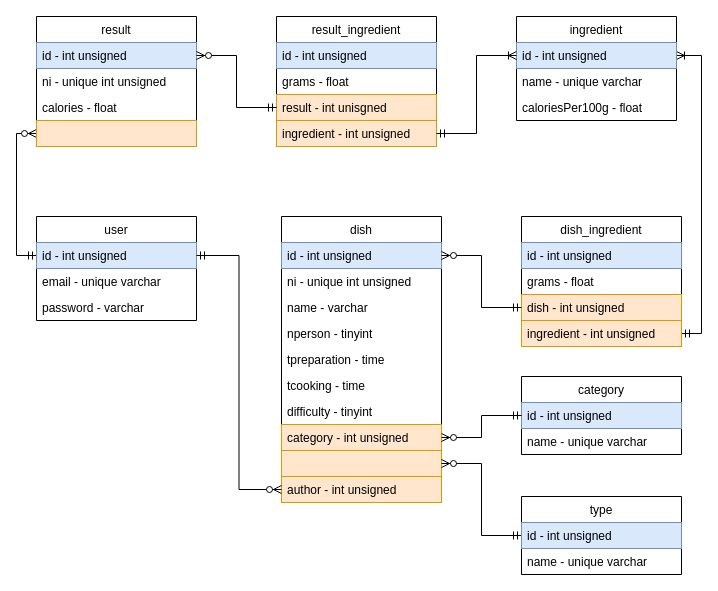
This 718x591 diagram has some shape labels left out. Each missing label, with the centre of its shape:
"type - int unsigned" goes at [361,463].
"user - int unsigned" goes at [116,133].
